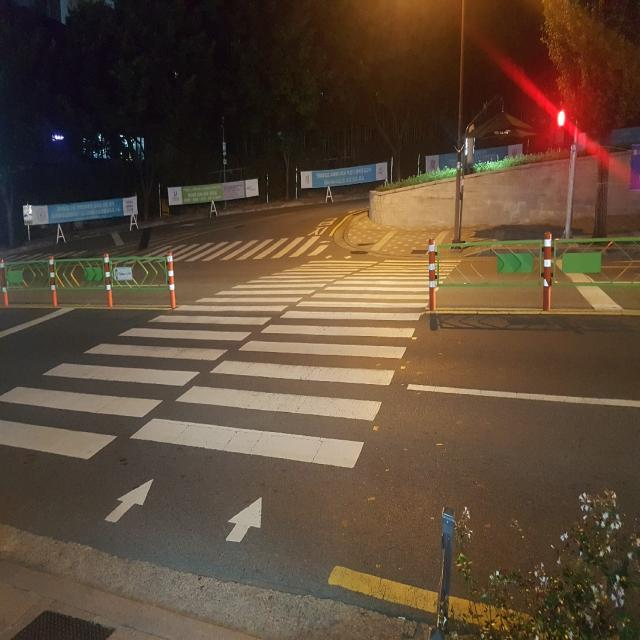횡단보도: (0, 254, 462, 544)
